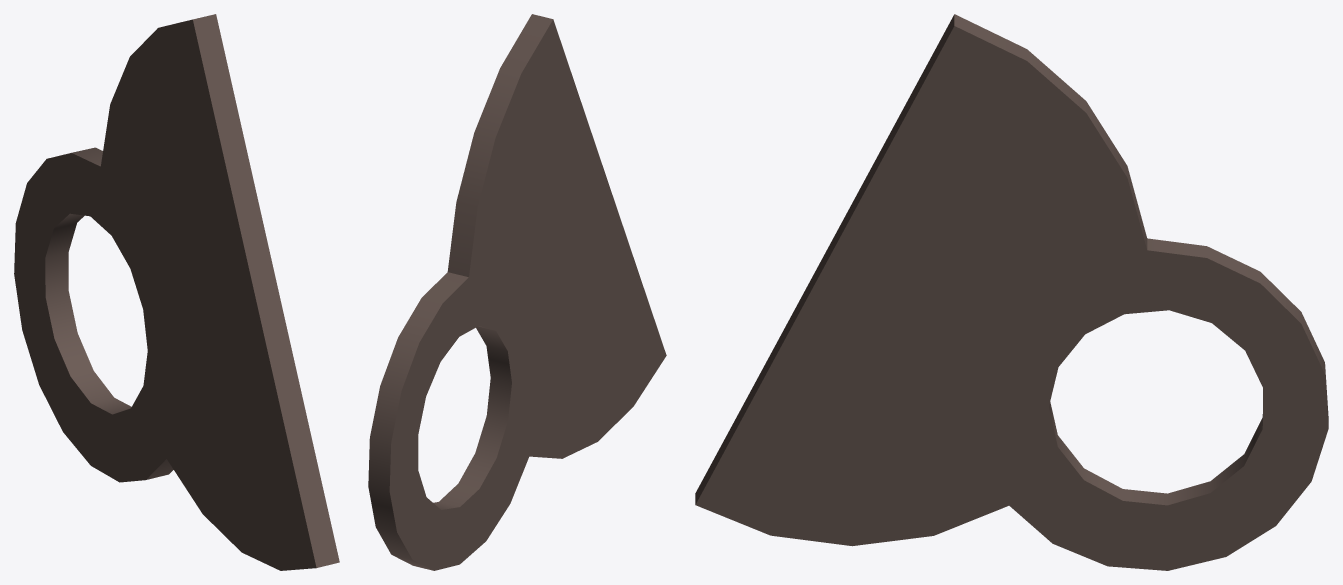
File: original-15.obj
3 renders of one model, left to right at view 1: azimuth 30°, elevation 25°; view 2: azimuth 150°, elevation 25°; view 3: azimuth 270°, elevation 25°, orthographic. The views are drawn at different scales.
Visible parts, largest first — view 1: mesh18/mesh18-geometry#mesh18-geometry; view 2: mesh18/mesh18-geometry#mesh18-geometry; view 3: mesh18/mesh18-geometry#mesh18-geometry.
Part boxes in pixels (box(x1,y1,x2,y2)): mesh18/mesh18-geometry#mesh18-geometry: box(14, 14, 339, 570); mesh18/mesh18-geometry#mesh18-geometry: box(368, 14, 666, 570); mesh18/mesh18-geometry#mesh18-geometry: box(695, 14, 1328, 570).
Bounding box in the file's own units: 0.00173 × 0.037 × 0.0389.
